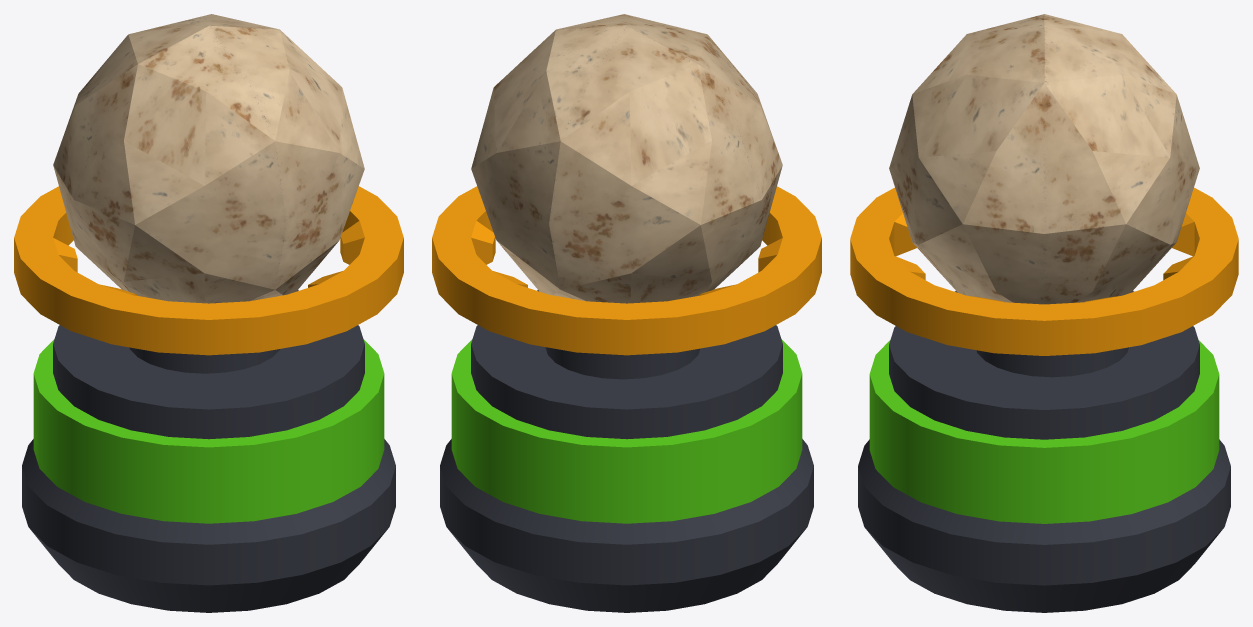
Rendered from tower_paraiba_tourmaline.obj.
3 renders of one model, left to right at view 1: azimuth 30°, elevation 25°; view 2: azimuth 150°, elevation 25°; view 3: azimuth 270°, elevation 25°, orthographic.
Parts seen in each view (by area): view 1: mergedBlocks; view 2: mergedBlocks; view 3: mergedBlocks.
Part boxes in pixels (left/top/right/bottom): mergedBlocks: left=14, top=14, right=403, bottom=612; mergedBlocks: left=432, top=14, right=821, bottom=612; mergedBlocks: left=850, top=14, right=1238, bottom=612.
Bounding box in the file's own units: 1 × 1.48 × 1.
5 materials, 1 textured.
